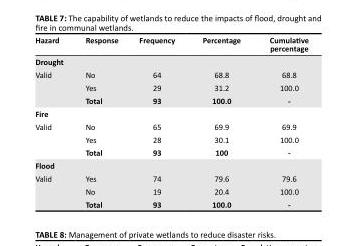table: (34, 34, 307, 208)
table column: (187, 34, 254, 208), (127, 34, 187, 208), (71, 34, 127, 208), (254, 34, 307, 208), (34, 34, 71, 208)
table column header: (34, 34, 307, 54)
table projected row header: (34, 54, 307, 68), (34, 106, 307, 120), (34, 158, 307, 172)
table row: (34, 34, 307, 54), (34, 54, 307, 68), (34, 106, 307, 120), (34, 158, 307, 172), (34, 68, 307, 81), (34, 93, 307, 106), (34, 120, 307, 133), (34, 145, 307, 158), (34, 172, 307, 185), (34, 81, 307, 93), (34, 133, 307, 145), (34, 185, 307, 197), (34, 197, 307, 208)
table spanning cell: (34, 68, 71, 106), (34, 120, 71, 158), (34, 172, 71, 208)
